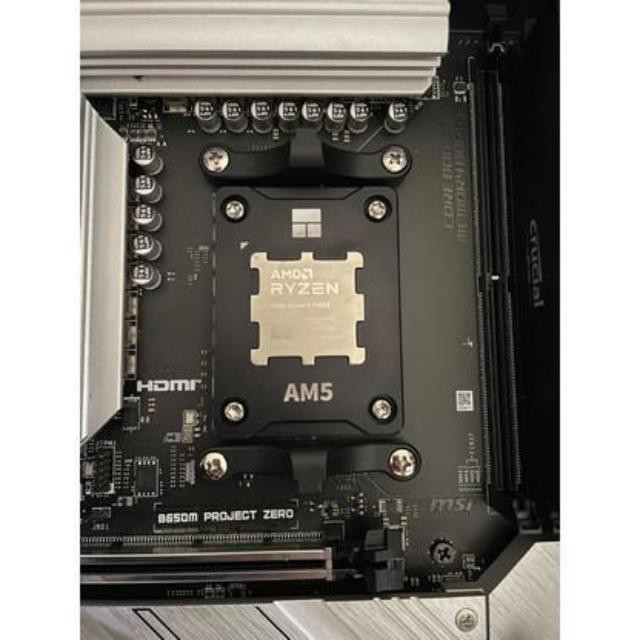CPU: (248, 248, 366, 377)
